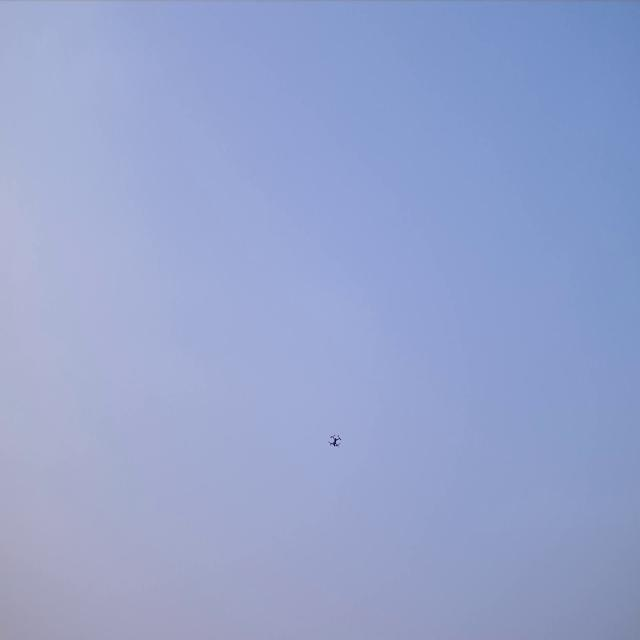UAV: (328, 432, 342, 448)
